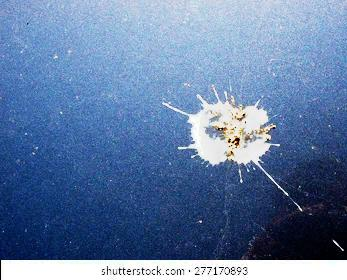Bird Poop: (162, 87, 288, 195)
